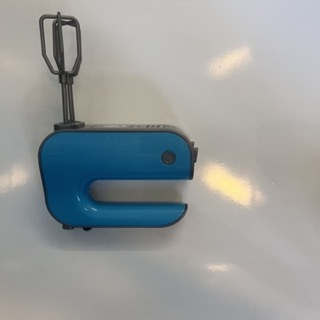mixer: (37, 12, 197, 233)
